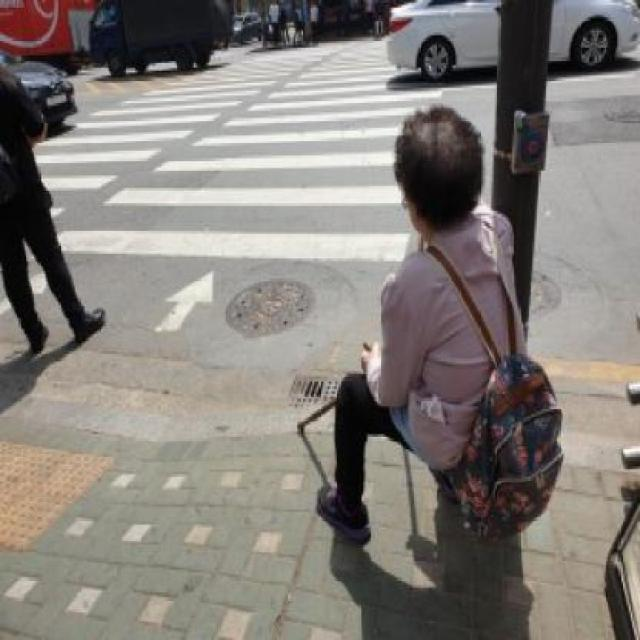-: (295, 111, 523, 534)
